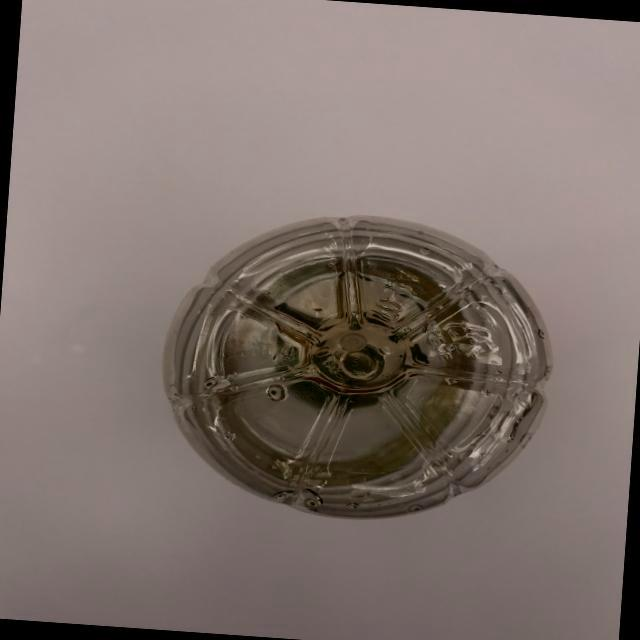plastic: (137, 181, 579, 537)
